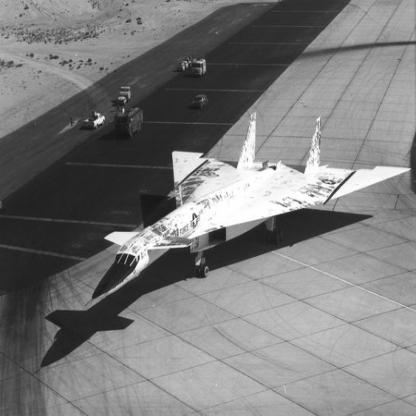XB70: (84, 112, 412, 309)
